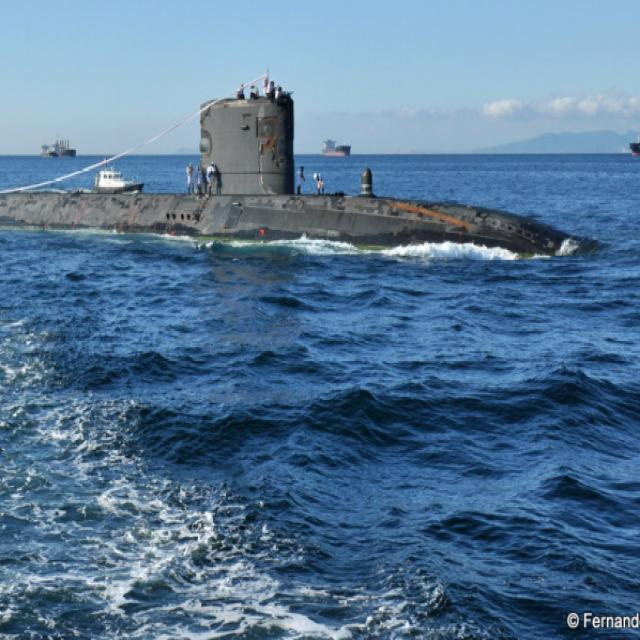submarine: (1, 95, 596, 258)
